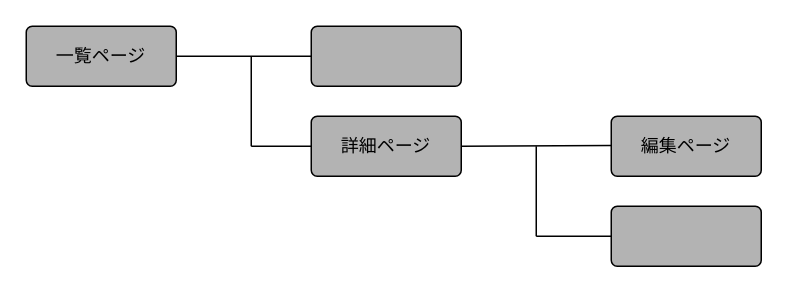
The diagram is 788 pixels wide and 293 high, and some of its shapes have lost their labels. Each missing label, with the centre of its shape:
"削除完了ページ" goes at (x=685, y=235).
"投稿ページ" goes at (x=385, y=55).
